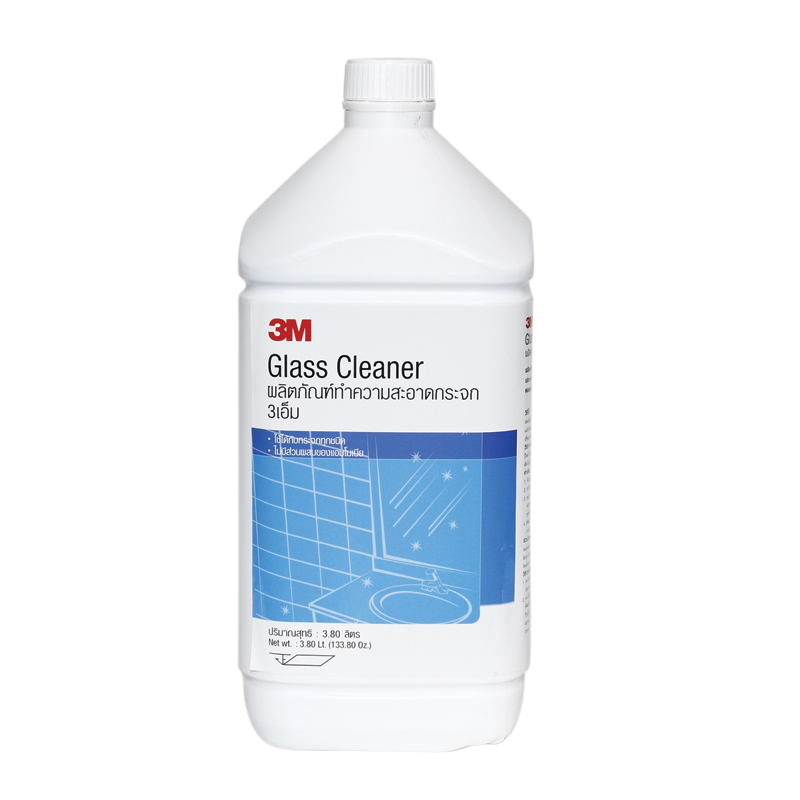Cleaning_solution: (224, 46, 544, 756)
